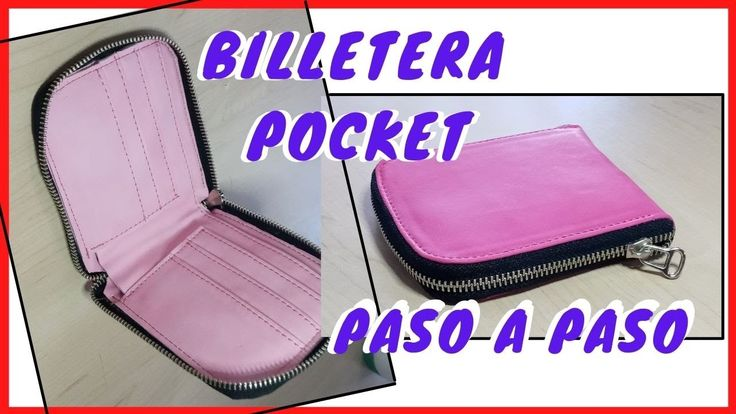cuero: (31, 41, 676, 389)
